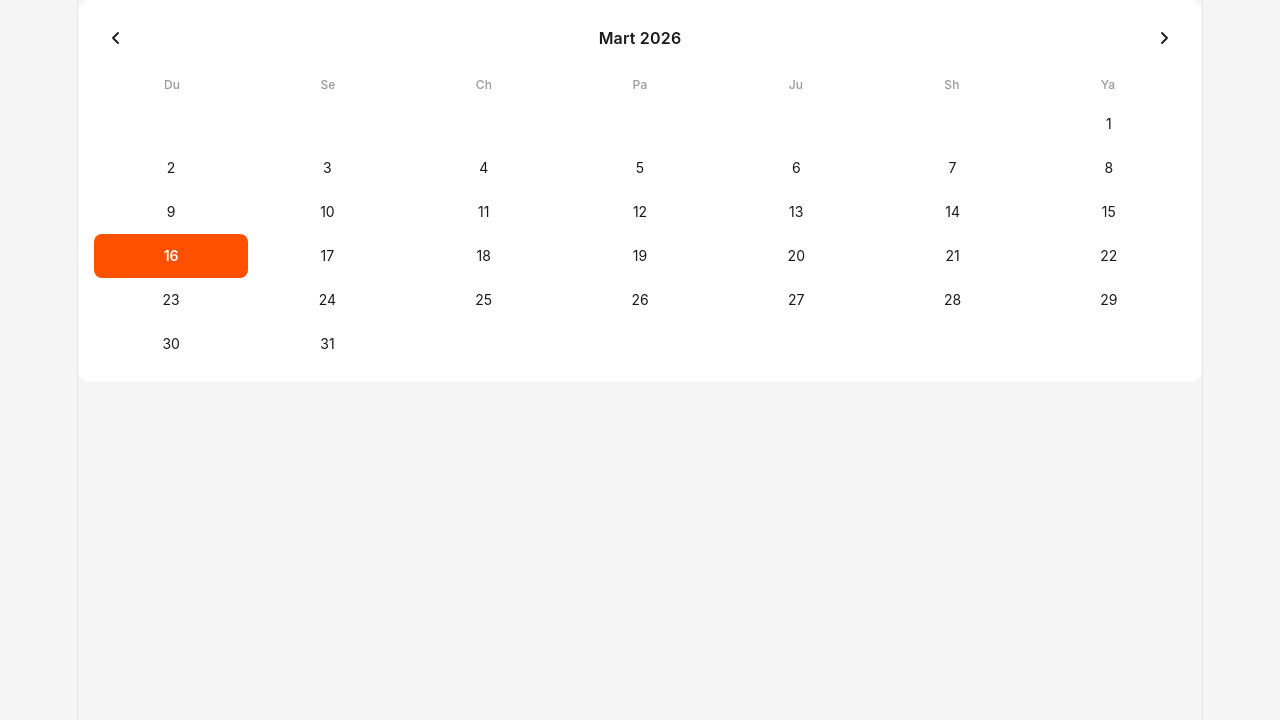
it: Calendar › navigates to previous month
Click the button named "Previous month".
click(116, 38)  # box [94,16,138,60]
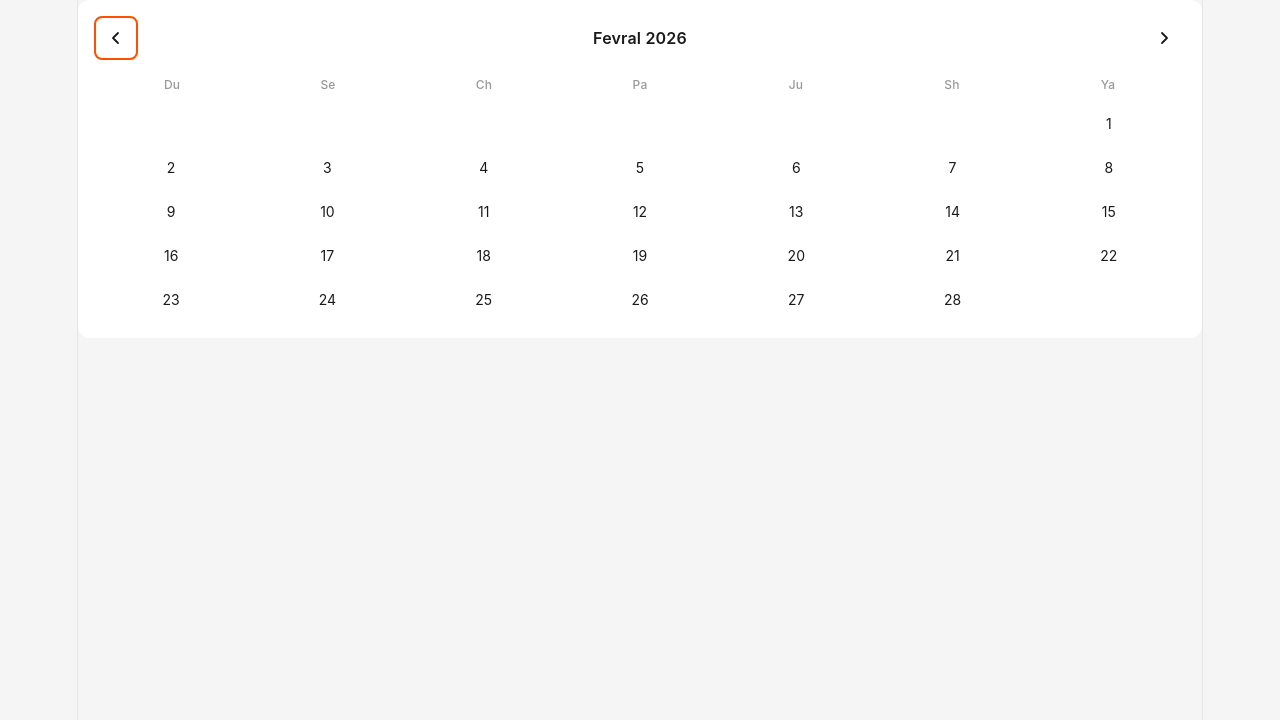
Expected: the text "Fevral 2026" is shown, [593,26,687,50]
